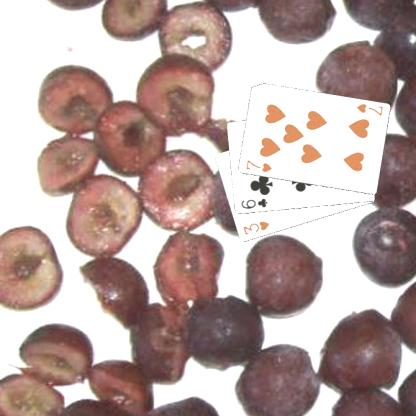3H: (240, 218, 271, 236)
6C: (238, 196, 268, 210)
7H: (354, 100, 384, 118), (243, 157, 273, 174)
